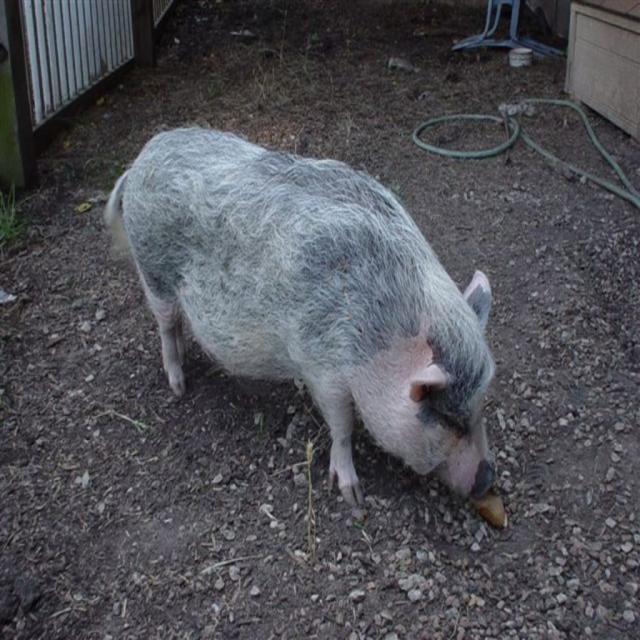Pig: (109, 122, 498, 538)
